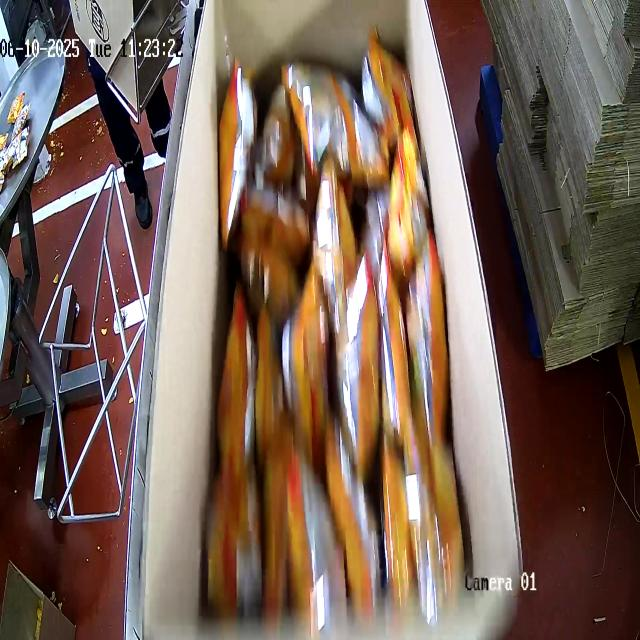FRENCH_CHEESE: (206, 28, 470, 640)
